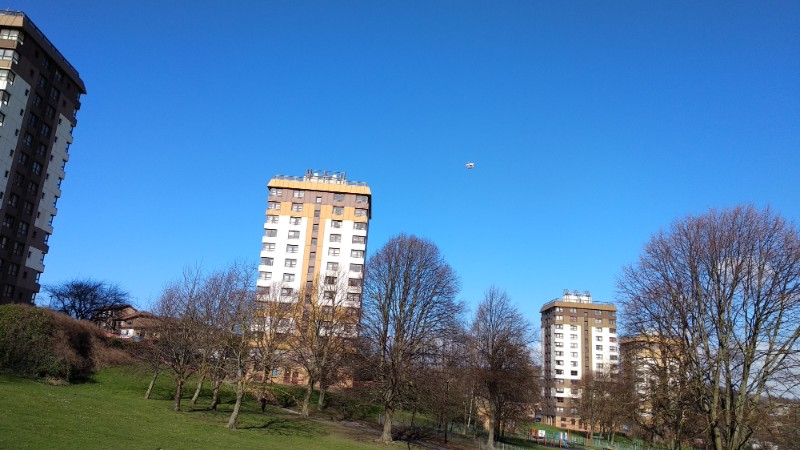drone: (465, 160, 474, 169)
